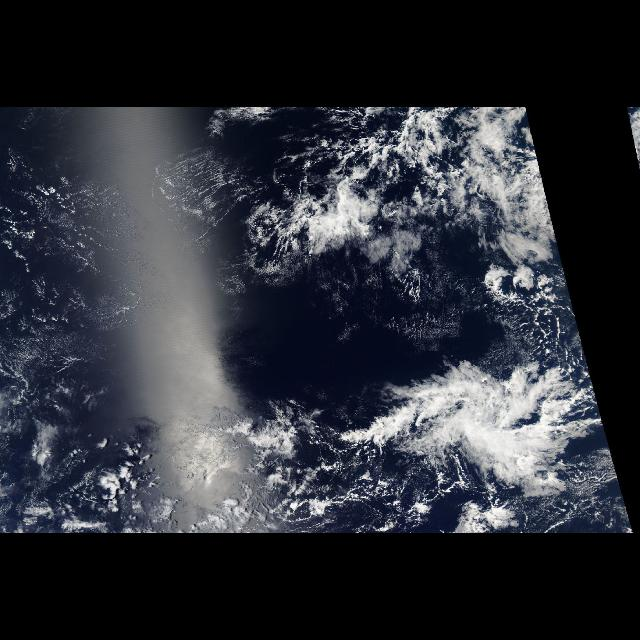Sugar: (4, 124, 270, 412)
